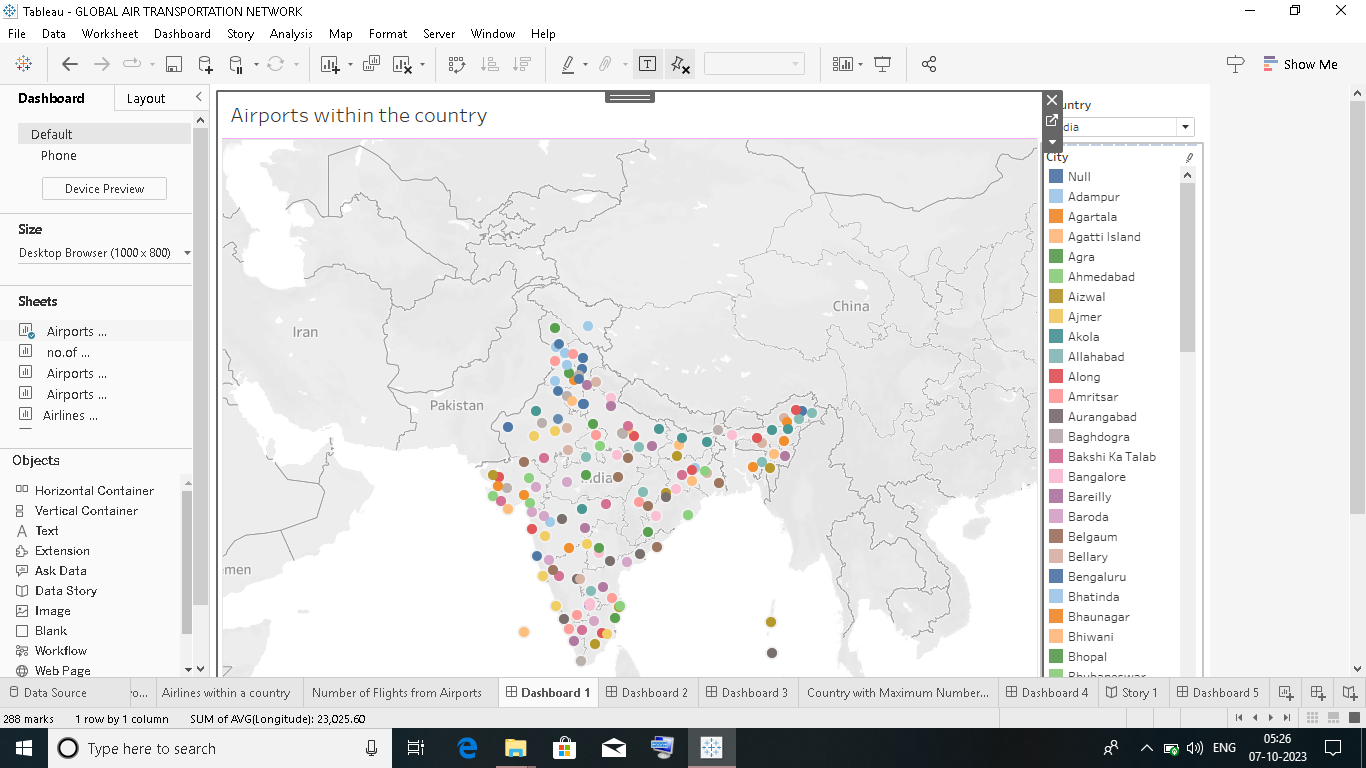

The dashboard page shown, as its layout file describes it:
{"tool":"tableau","page":{"name":"Dashboard 1","canvas":[1000,800],"ordinal":0},"visuals":[{"type":"worksheet","title":" Airports within the country","mark":"Automatic","rows":["Latitude"],"cols":["Longitude","Longitude"],"box":[8,8,824,784]},{"type":"filter","title":" Airports within the country","param":"[federated.1a1zrgq1lutcvu1c68p7n0bjfrti].[none:Country:nk]","box":[832,8,160,52]},{"type":"legend","title":" Airports within the country","param":"[federated.1a1zrgq1lutcvu1c68p7n0bjfrti].[none:City:nk]","box":[832,60,160,732]}]}

Visuals, with their boxes on the page's 1000x800 design canvas (x1, y1, x2, y2). These are canvas units, not pixel positions in the 1366x768 screenshot, which may show the page scaled, cropped or inside an application window:
" Airports within the country" worksheet: {"x1": 8, "y1": 8, "x2": 832, "y2": 792}
" Airports within the country" filter: {"x1": 832, "y1": 8, "x2": 992, "y2": 60}
" Airports within the country" legend: {"x1": 832, "y1": 60, "x2": 992, "y2": 792}
